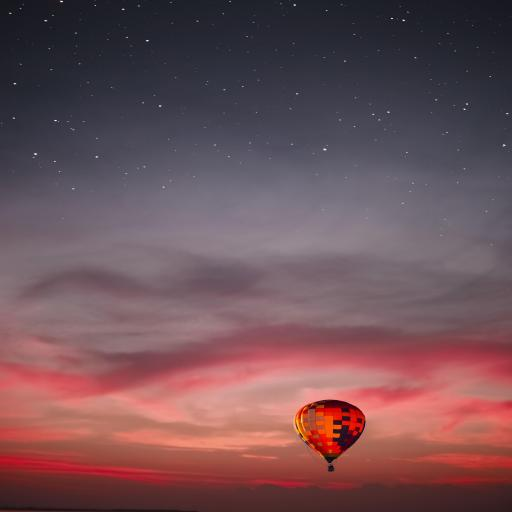hot air ballon: (292, 393, 369, 477)
